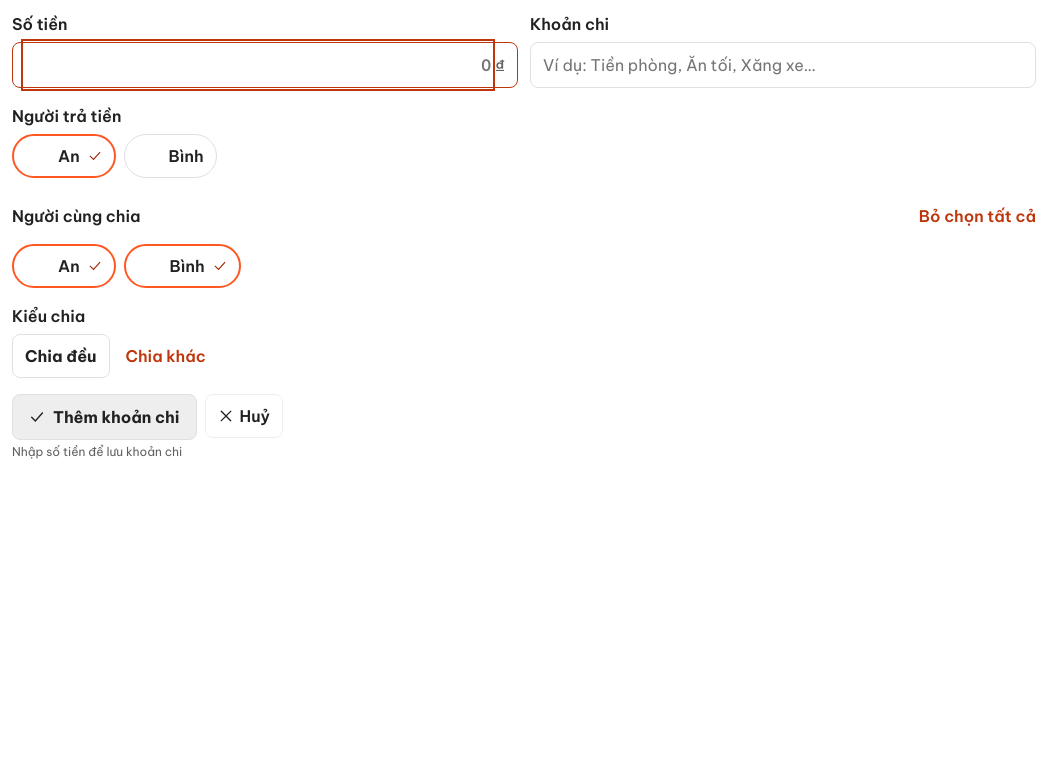
Test: flow lõi ở tầng component › ExpenseEditor (Addendum §6): kiểu chia 1 lớp — mặc định chỉ hiện «Chia đều» + nút «Chia khác»; bung ra chọn «Tuỳ chỉnh» xong thu gọn về tóm tắt, không còn hint
Expected: the radio button labelled "Tuỳ chỉnh" is not shown
Expected: the radio button labelled "Theo phần" is not shown
Click the button "Chia khác" at (166, 356), box [118, 334, 214, 378]
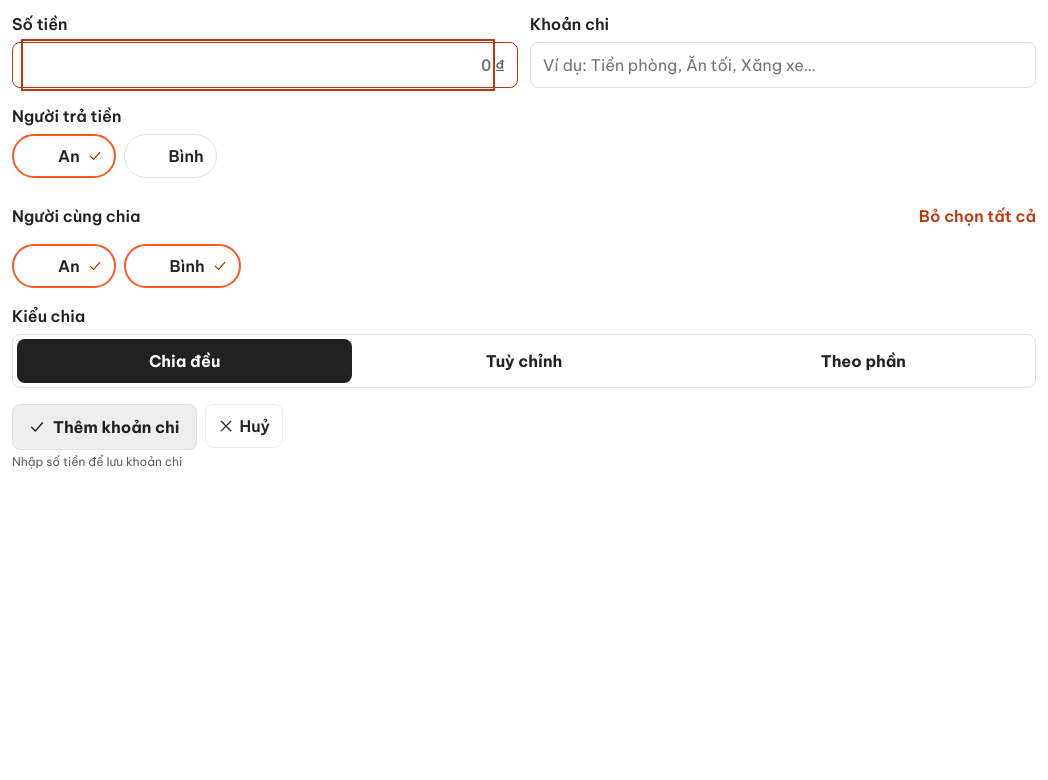
Click the radio button labelled "Tuỳ chỉnh" at (524, 361), box [356, 339, 692, 383]
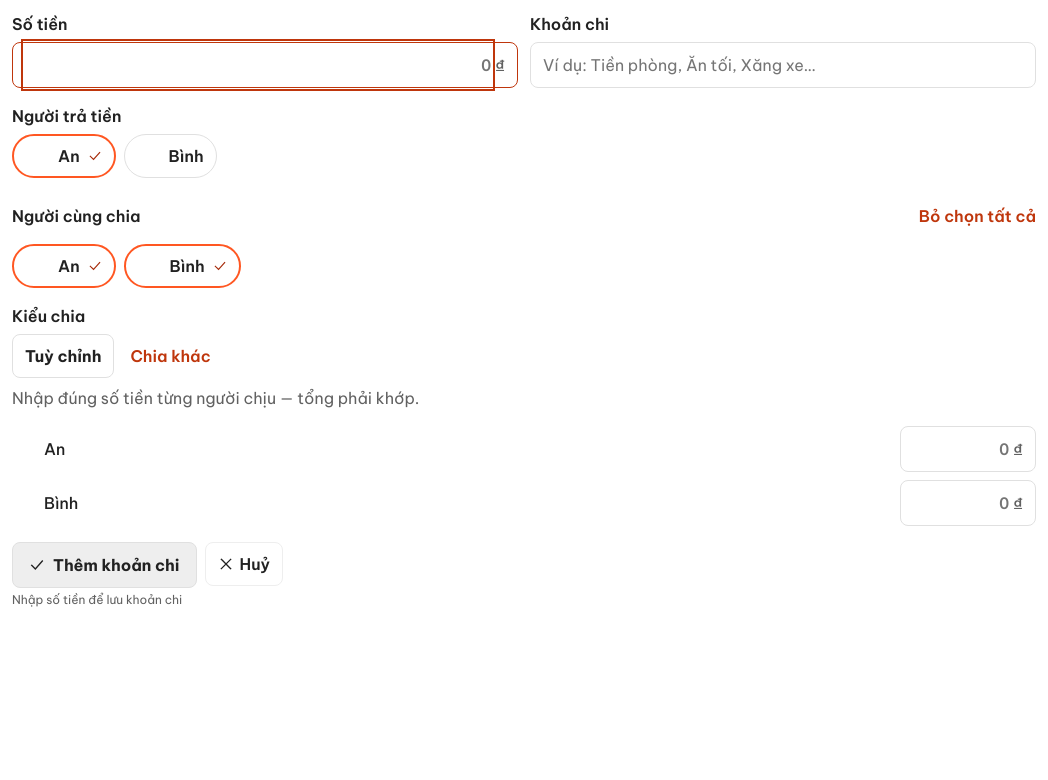
Expected: the radio button labelled "Theo phần" is gone
Expected: the button "Chia khác" is shown, [122, 334, 219, 378]
Expected: the field named "Số tiền An phải chịu" is shown, [913, 427, 1009, 471]
